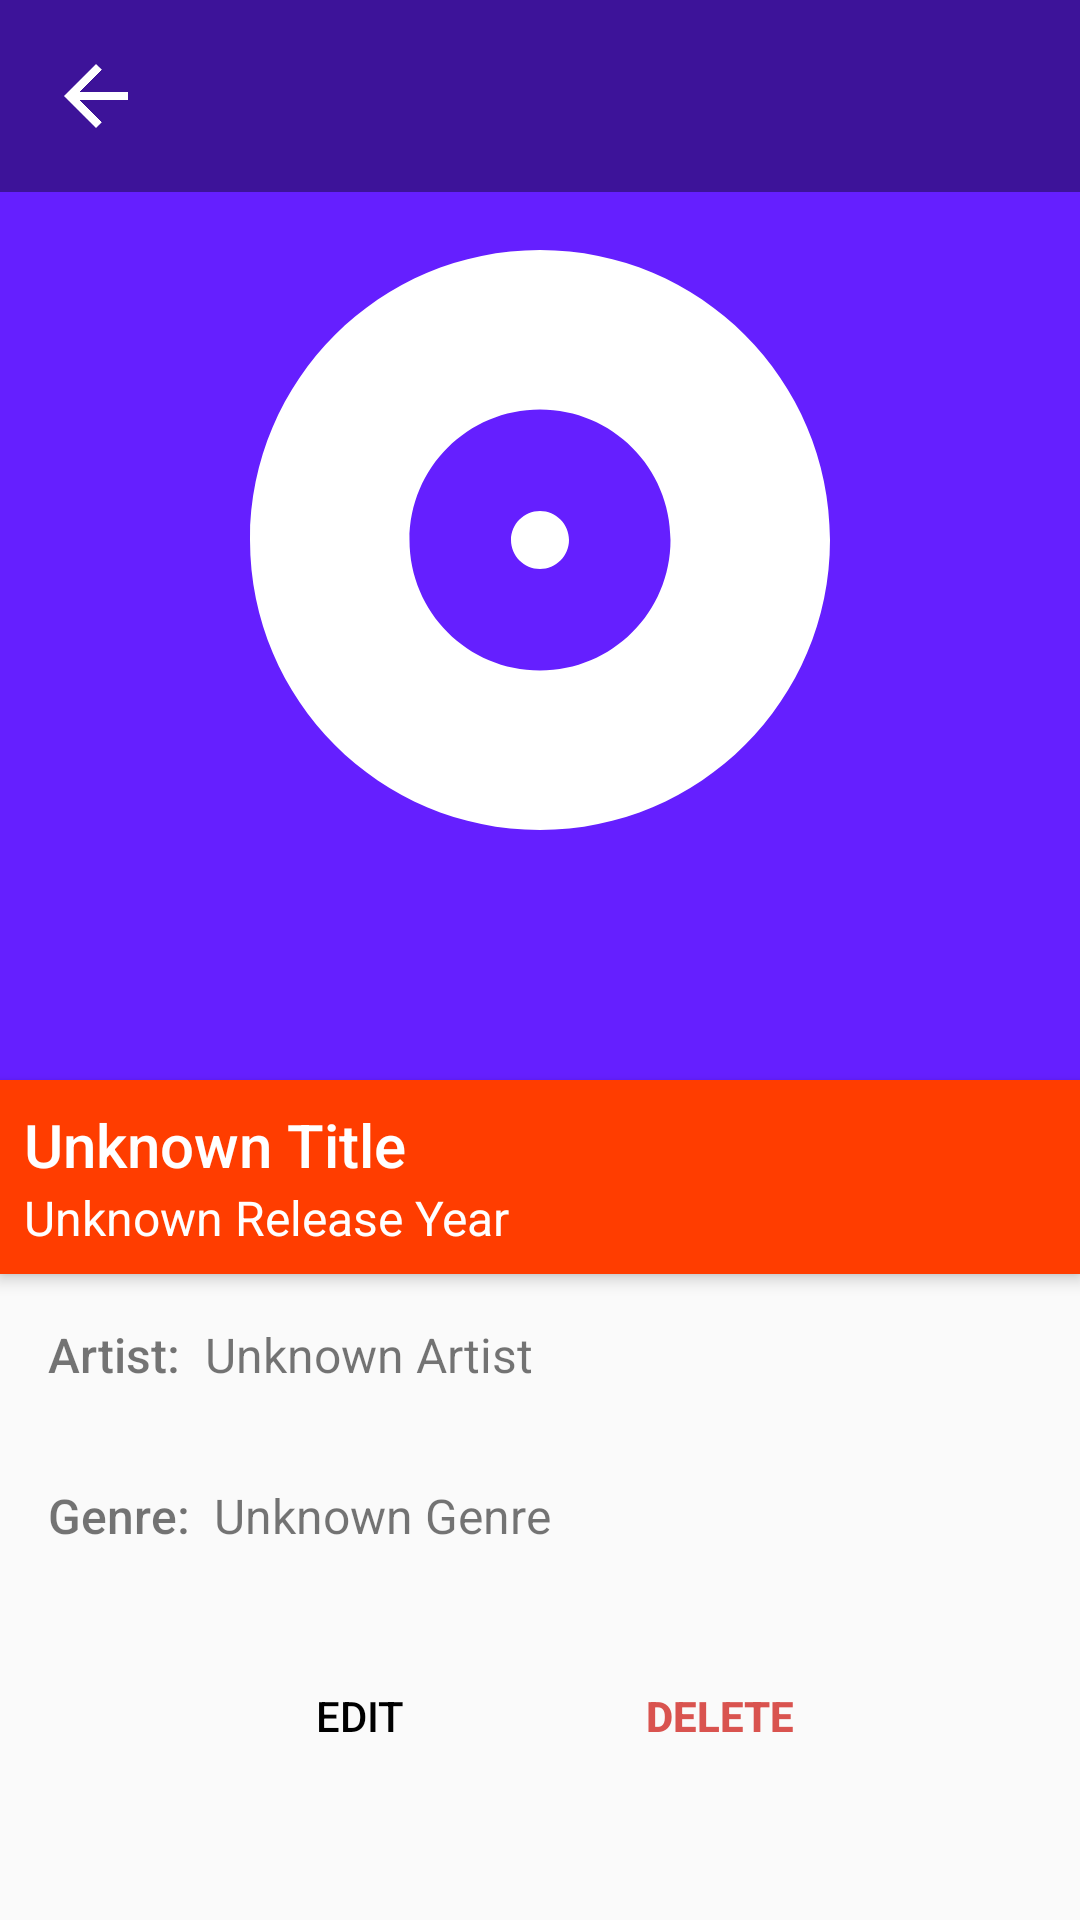

Named icons in this screenshot (1080×1920) and their bounding boxes, (x1, y1, x2, y2):
Back button: (64, 64, 128, 128)
